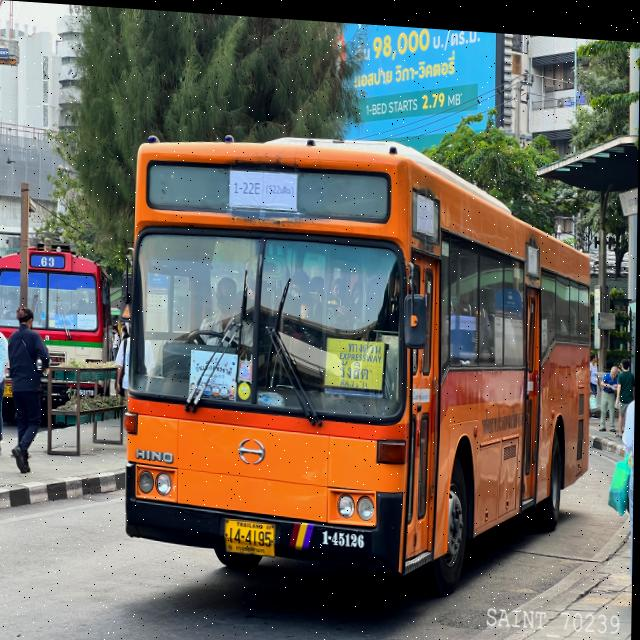BMTA-bus: (122, 124, 597, 596)
Bus-Line-Number: (225, 164, 306, 209)
Destination-Sign-Normal-Expressway: (326, 331, 387, 385)
